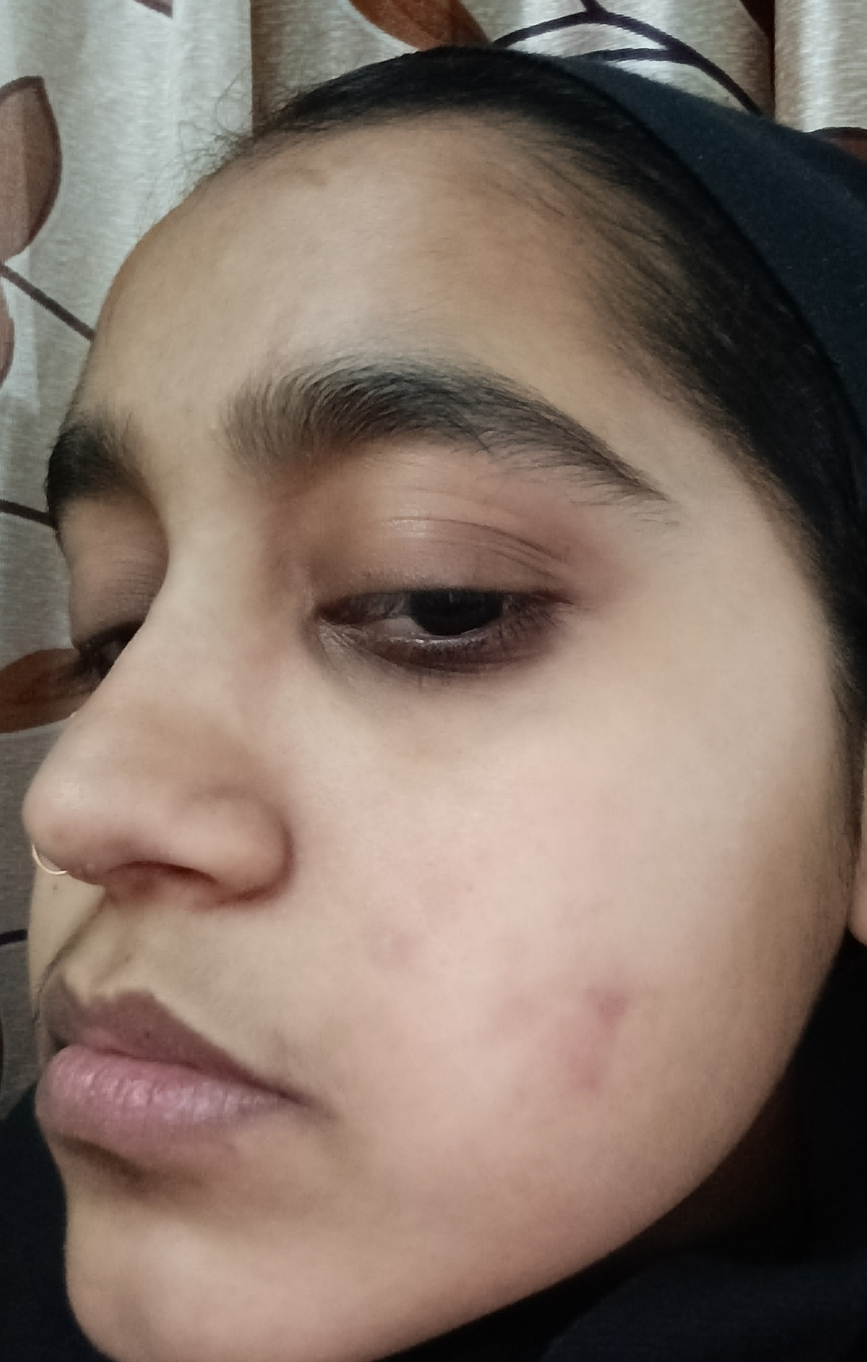papule: (563, 964, 655, 1040), (345, 912, 426, 998)
